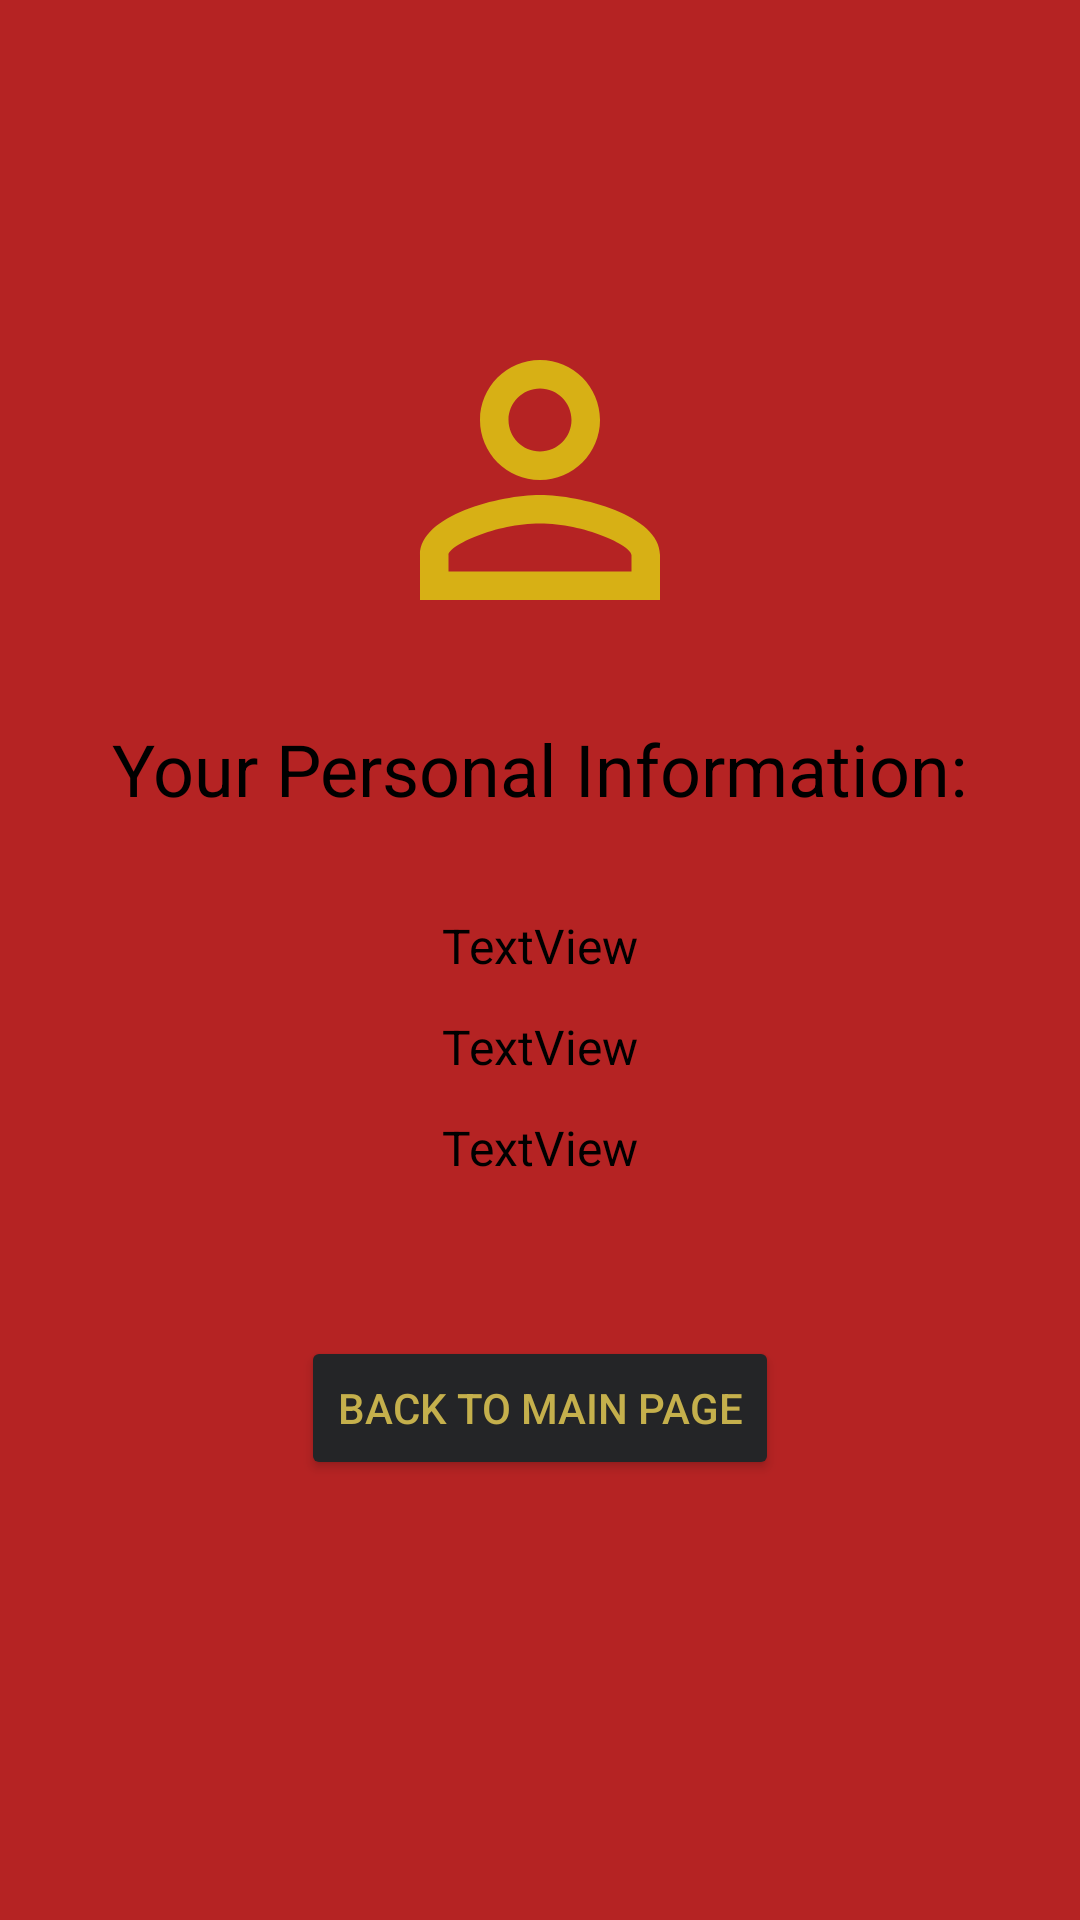

Icon bounding boxes for this 1080x1920 phone screenshot, format (x1=x1, y1=y1, x2=x2, y2=y2):
identity: (x1=420, y1=360, x2=660, y2=600)
